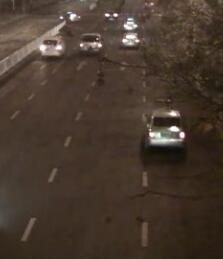car: (143, 106, 186, 151), (76, 31, 105, 55), (38, 35, 66, 59), (120, 28, 141, 48), (122, 14, 140, 30), (103, 8, 120, 22)
